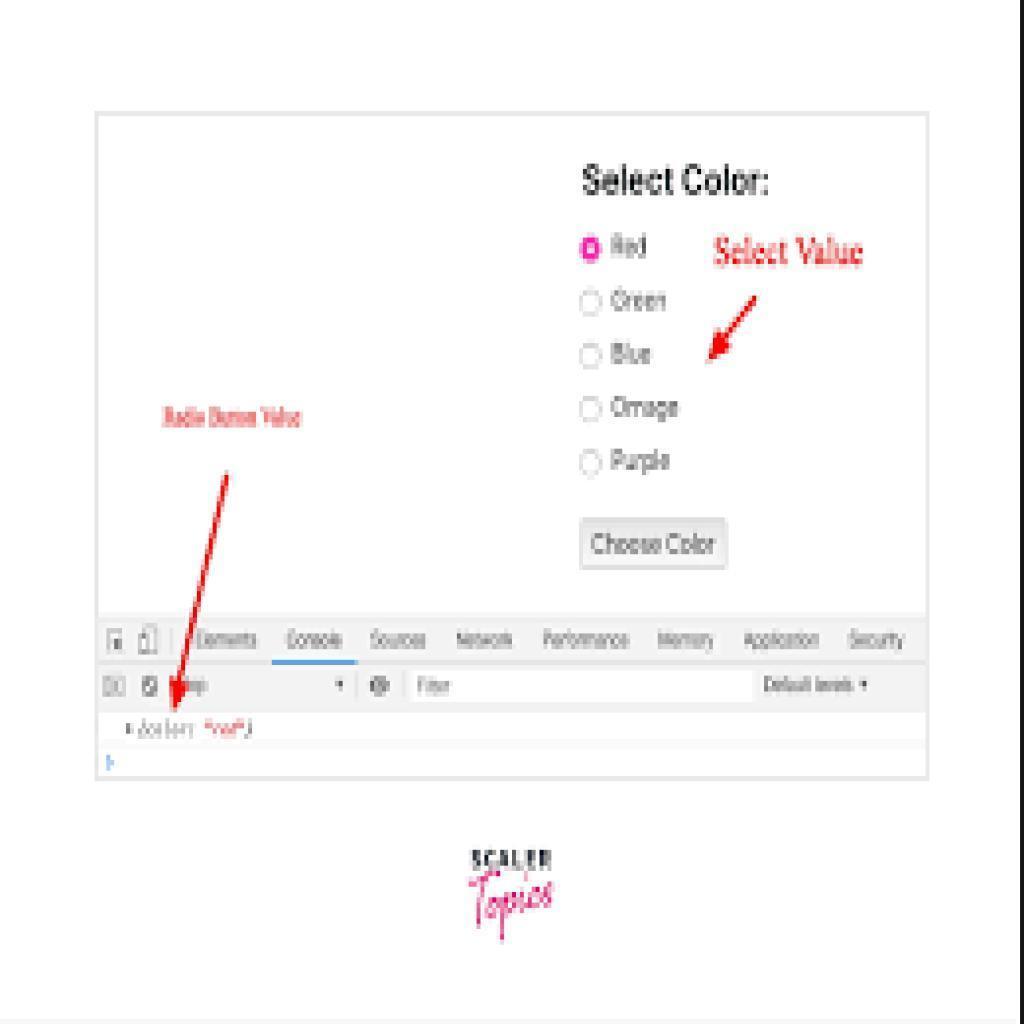button: (581, 519, 728, 570)
radio: (576, 234, 607, 267), (578, 286, 606, 320), (578, 395, 606, 428), (579, 341, 606, 374), (579, 447, 605, 479)
